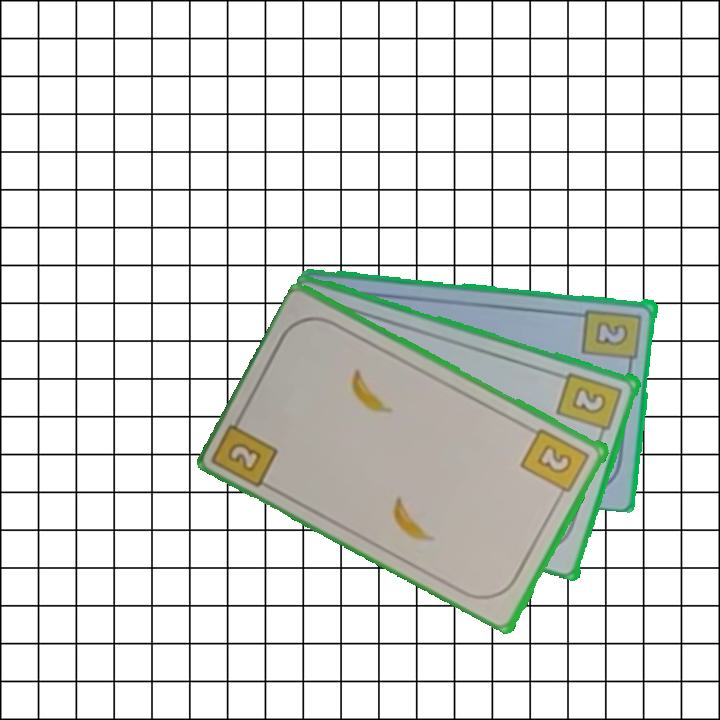2b: (518, 424, 593, 503), (212, 407, 282, 490), (554, 368, 626, 442), (580, 305, 645, 371)
